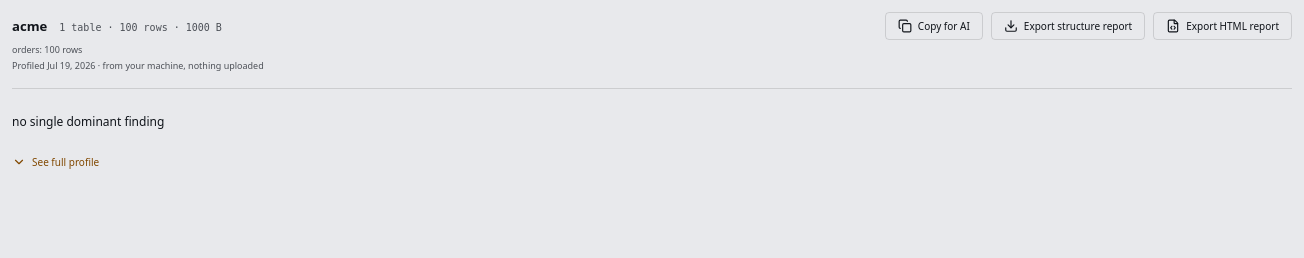
ViewSpecRenderer › hides tier 2/3 panels until "See full profile" is clicked
Click the button "See full profile": (56, 162) [12,155,99,170]
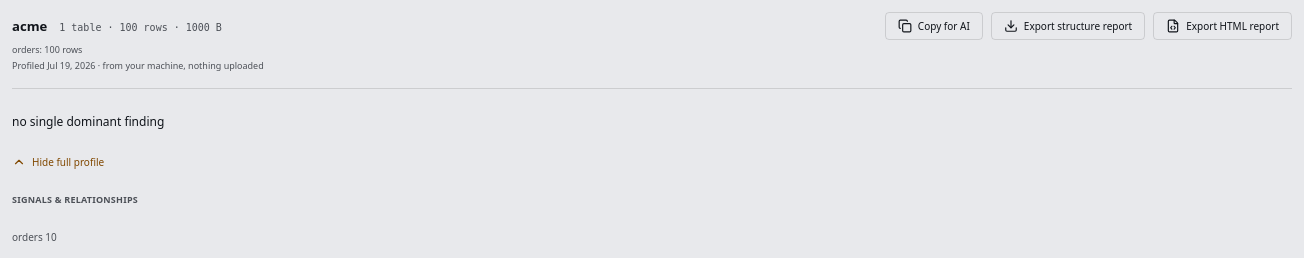
Result: the button "Hide full profile" is shown at [12,155,104,170]
